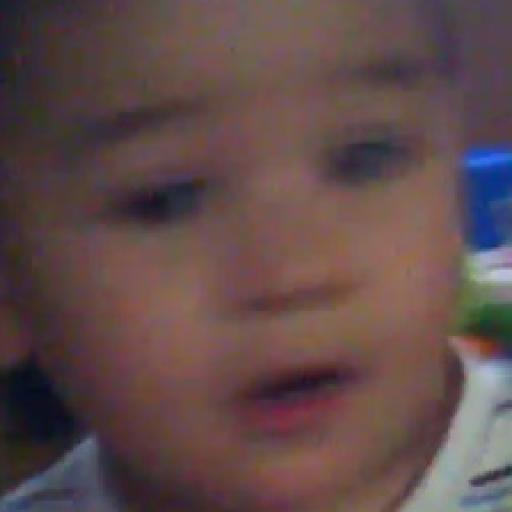Autism: (4, 8, 486, 476)
